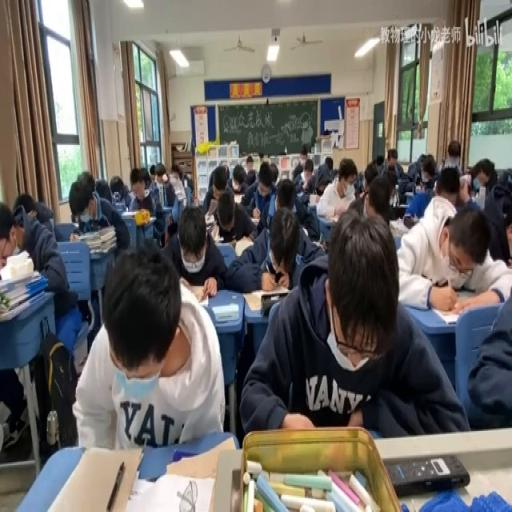calculator: (38, 444, 142, 509), (123, 469, 216, 509), (164, 435, 234, 479), (0, 289, 46, 320), (242, 286, 287, 311), (0, 268, 39, 294), (180, 278, 211, 302), (426, 304, 461, 324), (212, 302, 238, 322), (452, 283, 477, 299), (204, 196, 218, 218), (205, 214, 217, 238), (390, 218, 408, 234), (121, 208, 146, 218), (317, 213, 337, 225), (112, 200, 125, 214), (125, 191, 137, 206), (310, 239, 324, 250), (231, 193, 243, 205), (157, 182, 163, 206), (298, 188, 308, 200), (304, 199, 317, 208), (250, 214, 260, 224), (404, 189, 414, 199)
paper: (246, 208, 468, 436), (75, 238, 225, 452), (0, 193, 71, 448), (465, 276, 512, 429), (68, 170, 130, 264), (203, 188, 257, 252), (314, 156, 358, 220), (354, 168, 402, 225), (400, 158, 438, 220), (290, 168, 324, 236), (483, 186, 512, 263), (12, 192, 55, 233), (128, 165, 159, 215), (442, 141, 467, 196), (464, 158, 494, 202), (0, 202, 19, 269), (166, 161, 186, 203), (382, 146, 404, 180), (274, 178, 295, 212), (150, 202, 166, 245), (110, 175, 126, 200), (497, 170, 512, 196), (243, 155, 256, 183), (363, 162, 378, 186), (352, 170, 365, 194), (207, 169, 220, 192), (232, 168, 246, 189), (171, 196, 181, 225), (316, 179, 330, 198), (421, 166, 434, 184), (154, 166, 166, 184), (458, 172, 470, 189), (269, 162, 278, 184), (389, 183, 398, 205), (292, 164, 302, 180), (183, 174, 193, 189), (324, 155, 333, 171), (417, 154, 426, 169), (374, 155, 383, 169), (260, 151, 270, 162), (149, 162, 156, 176), (300, 148, 307, 158), (322, 128, 330, 134)
person: (386, 452, 470, 494), (394, 202, 406, 219)
